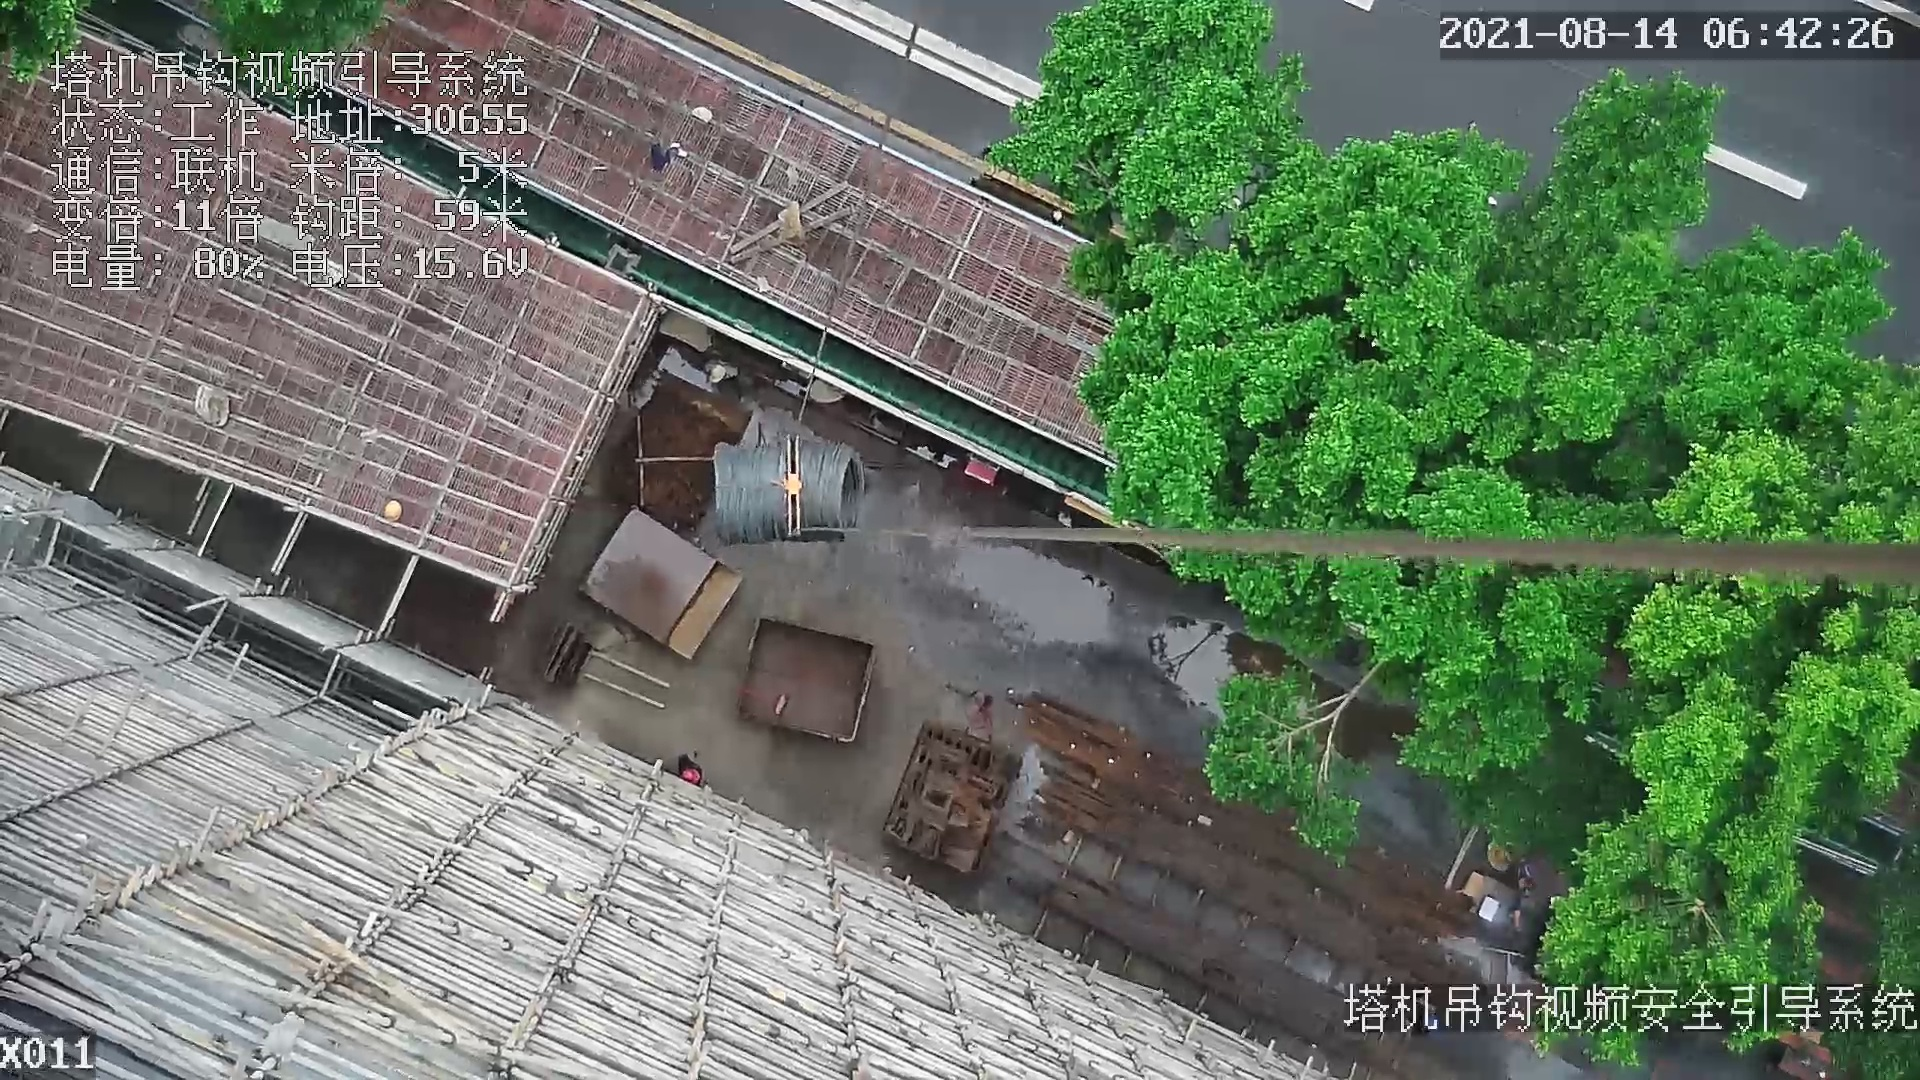helmet: (681, 767, 699, 782)
hook: (768, 431, 806, 537)
person: (676, 746, 710, 789)
